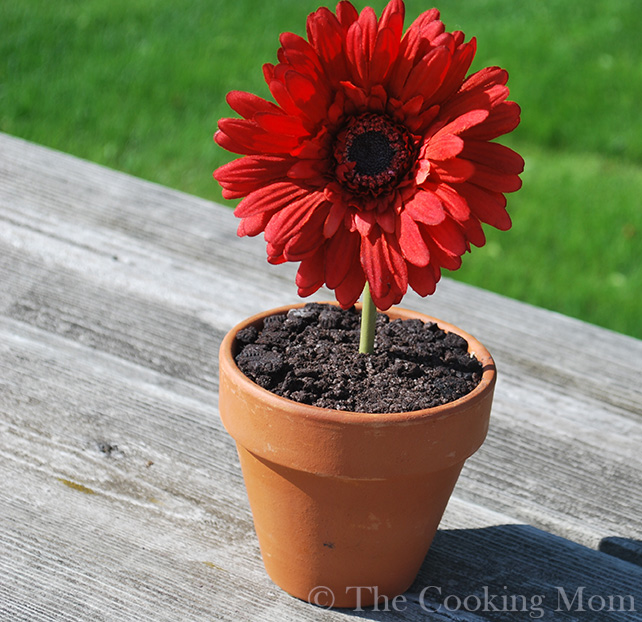tire: (219, 303, 498, 605)
